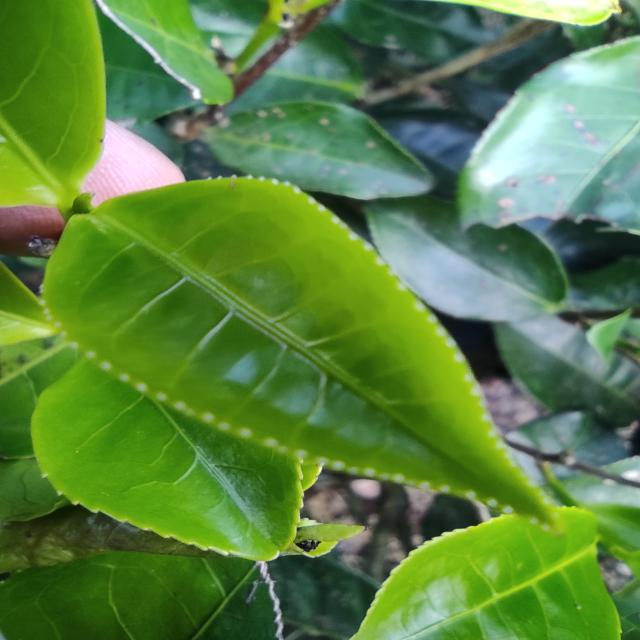Category B 2-4 days: (35, 162, 569, 531)
